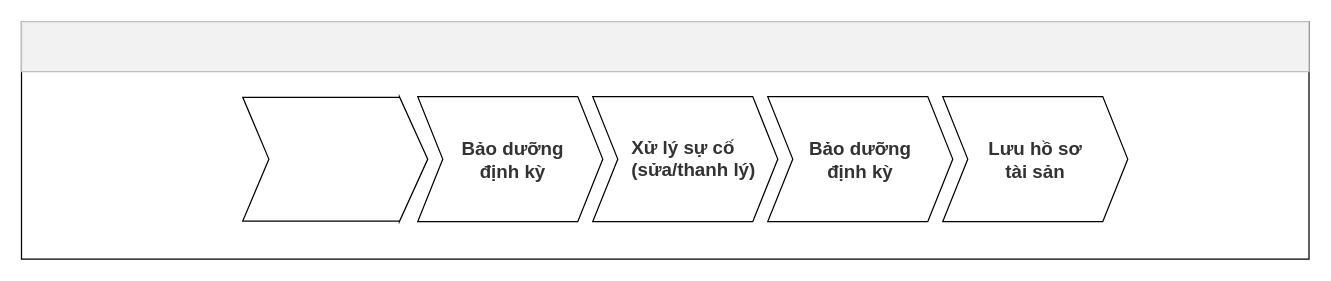
Image size: 1331x281. Some labels were removed from this diagram. Here are the shapes that lost their labels. From the top down, the centre of each, then its label:
pixel 664 46: PROCESS PERSPECTIVE – QUẢN LÝ & KIỂM SOÁT TÀI SẢN
pixel 335 158: Tiếp nhận & bàn giao thiết bị
